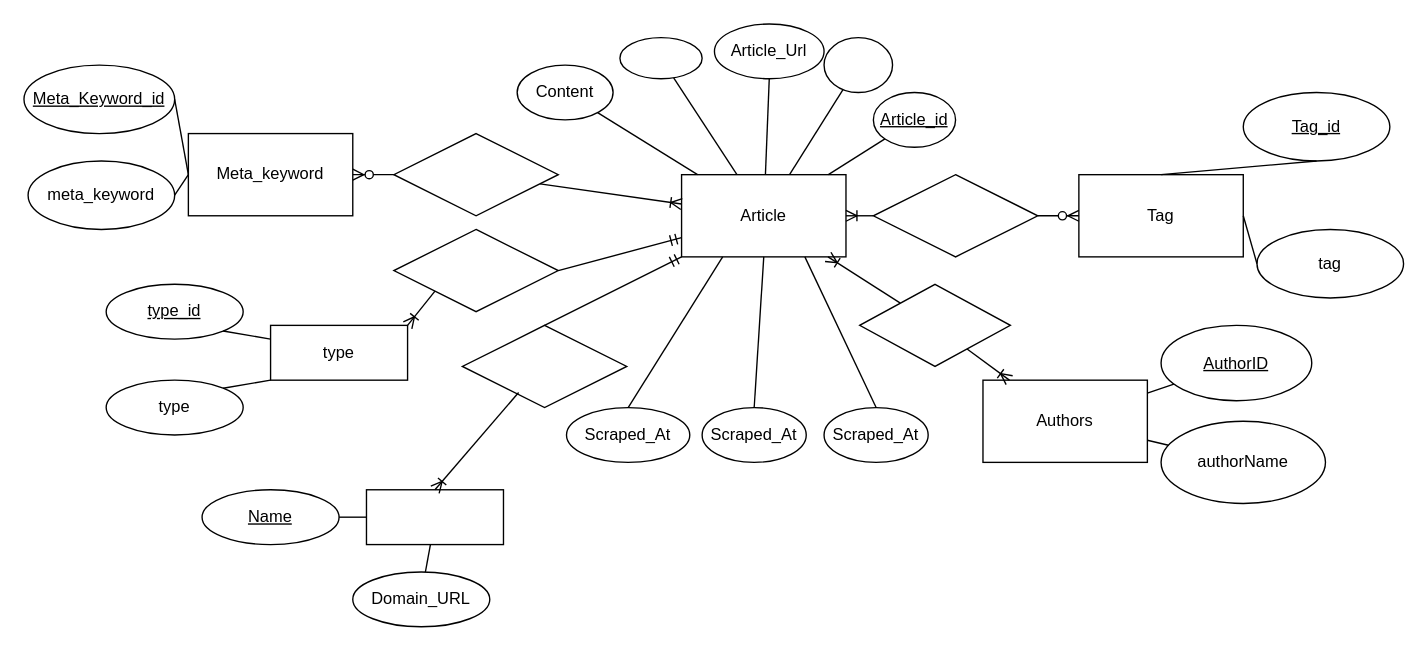
Image size: 1428x651. Some labels were removed from this diagram. Here are the shapes that lost their labels. From the top down, the centre of each, then its label:
point (660, 57): title
point (858, 64): Source
point (475, 174): meta_keyword_in
point (955, 215): Tag_in
point (475, 270): type_in
point (934, 324): author_in
point (544, 366): Domain_in
point (434, 516): Domain
